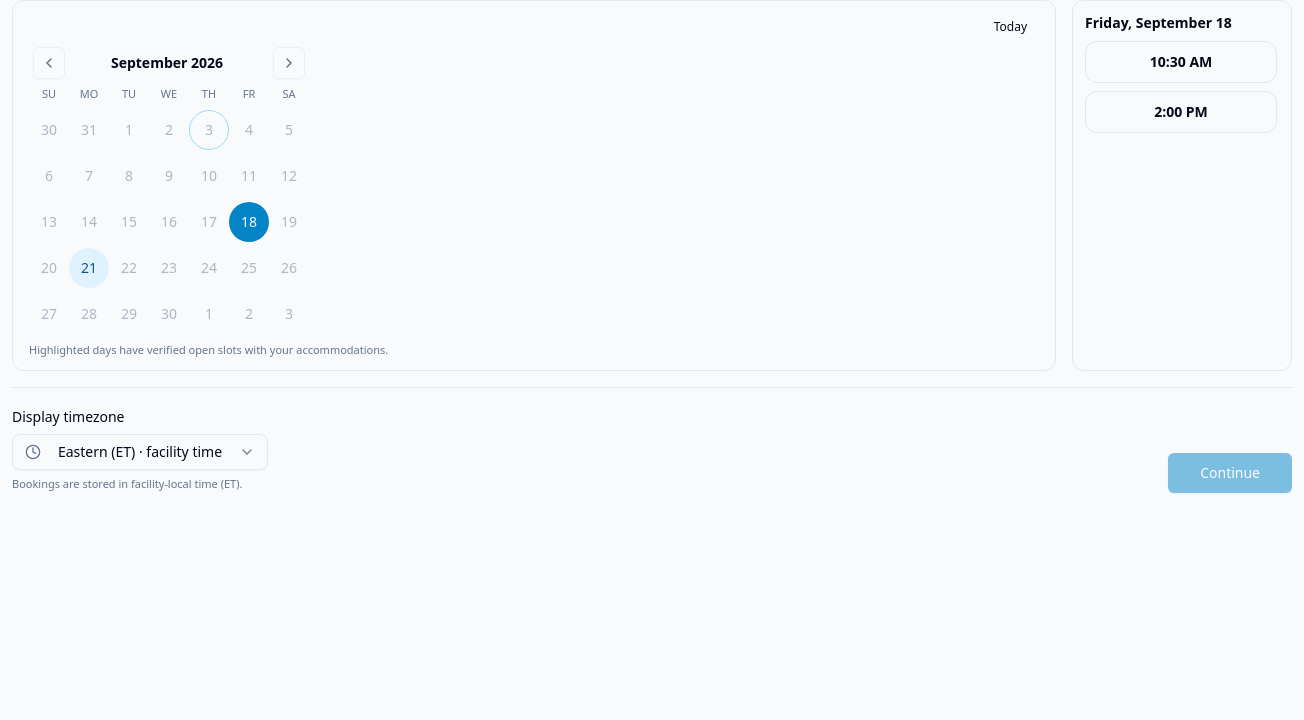
SlotPicker (Calendly-style availability) › converts display times to the selected timezone
This screenshot has width=1304, height=720.
Click the dropdown named "Display timezone" at coordinates (140, 452), box 12,434 -> 268,470
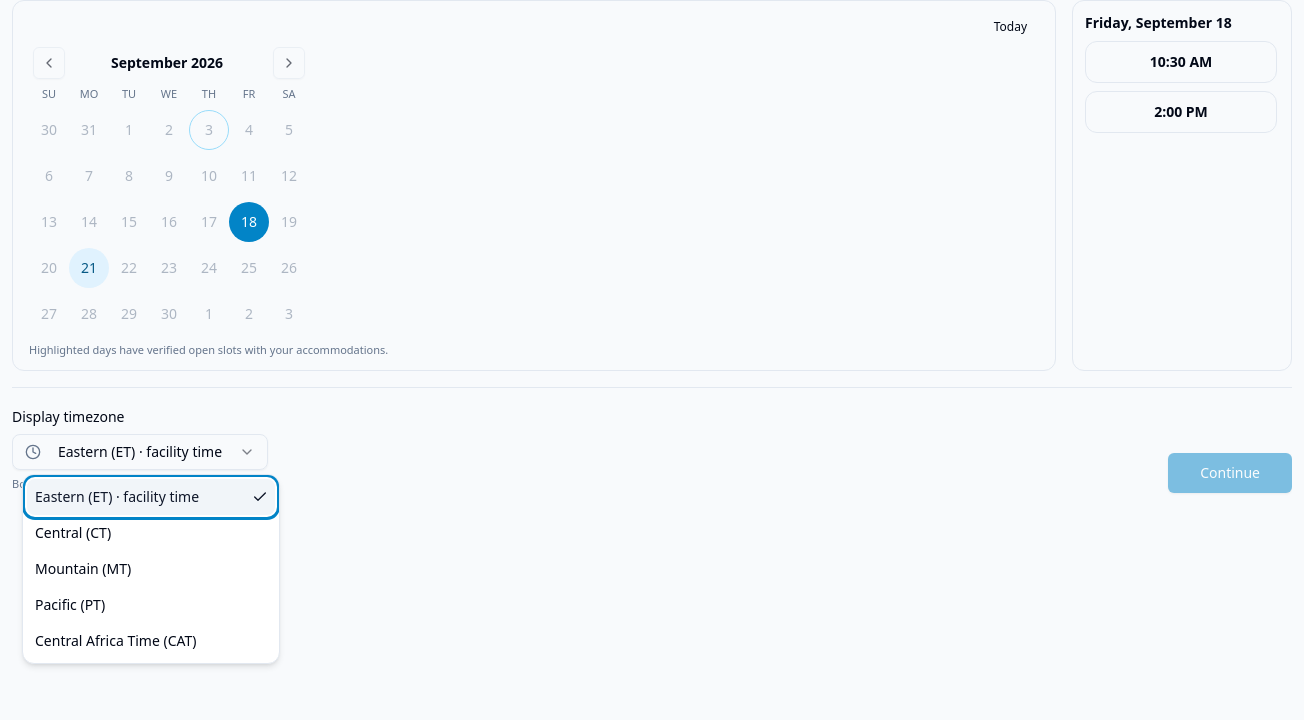
Click the option "Central Africa Time (CAT)" at coordinates (116, 640), box 35,631 -> 196,650
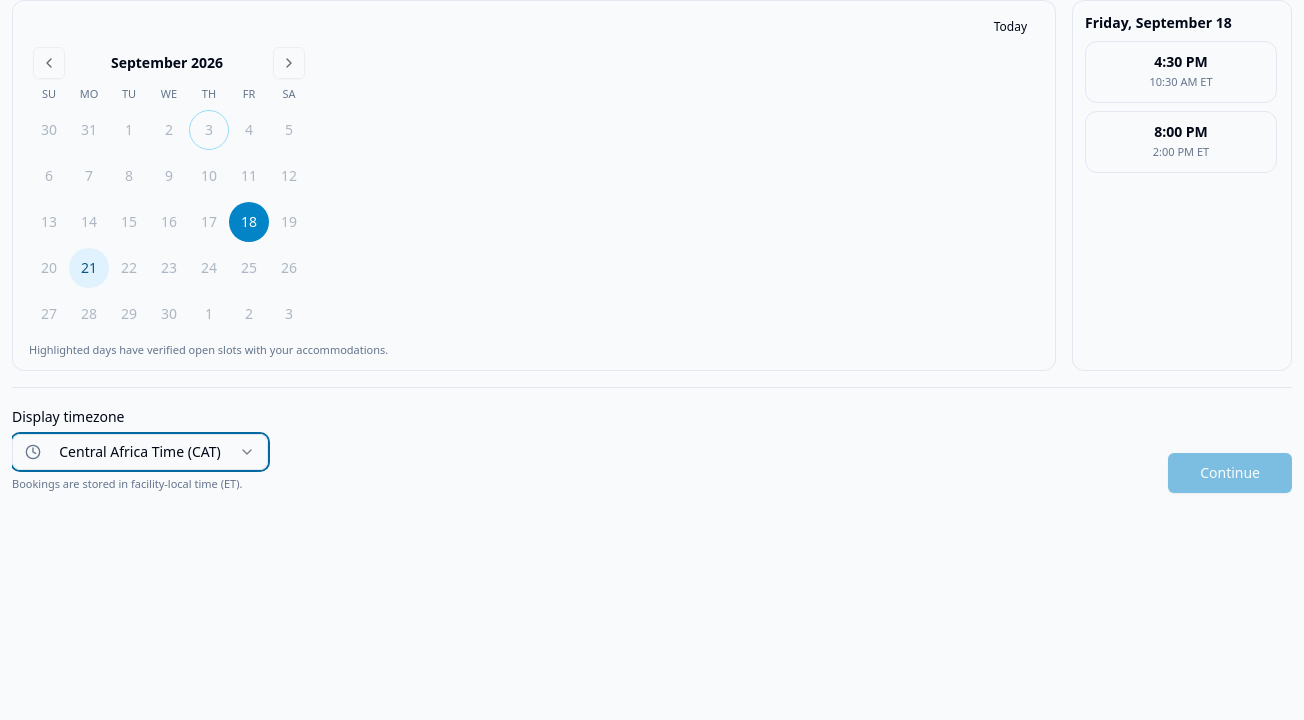
expect the button "4:30 PM 10:30 AM ET" is shown: met, box 1085,41 -> 1277,103
expect the text "10:30 AM ET" is shown: met, box 1150,74 -> 1213,89
